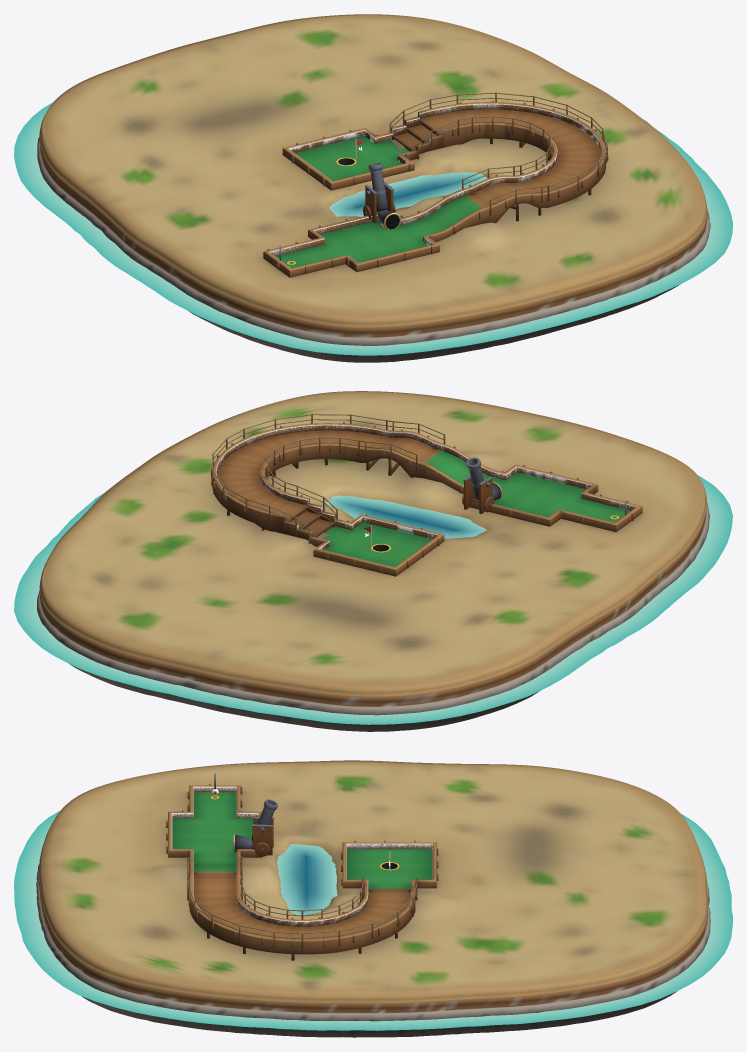
File: course-04.glb
3 views of the same model, one above another, from view 1: azimuth 30°, elevation 25°; view 2: azimuth 150°, elevation 25°; view 3: azimuth 270°, elevation 25° (orthographic). The views are drawn at different scales.
Parts seen in each view (by area): view 1: scenery-matte, water-shore, rail-trim, floor-felt, floor-deck, rail-wood, scenery-water, scenery-metal; view 2: scenery-matte, water-shore, rail-trim, floor-felt, floor-deck, scenery-water, rail-wood, scenery-metal; view 3: scenery-matte, water-shore, rail-trim, floor-felt, floor-deck, scenery-water, rail-wood, scenery-metal.
Boxes of the visible parts, x1,y1,x2,y2 form: scenery-matte: [37, 14, 710, 362]; water-shore: [14, 102, 732, 355]; rail-trim: [263, 100, 606, 277]; floor-felt: [275, 136, 481, 268]; floor-deck: [393, 109, 601, 207]; rail-wood: [269, 103, 602, 268]; scenery-water: [329, 172, 487, 216]; scenery-metal: [364, 163, 394, 224]; scenery-matte: [37, 391, 709, 731]; water-shore: [14, 475, 732, 724]; rail-trim: [211, 422, 642, 576]; floor-felt: [322, 451, 630, 567]; floor-deck: [217, 430, 441, 536]; scenery-water: [326, 495, 486, 538]; rail-wood: [216, 424, 636, 567]; scenery-metal: [462, 457, 501, 512]; scenery-matte: [36, 760, 710, 1037]; water-shore: [14, 811, 732, 1030]; rail-trim: [166, 783, 438, 954]; floor-felt: [172, 792, 432, 888]; floor-deck: [193, 871, 410, 939]; scenery-water: [277, 844, 337, 915]; rail-wood: [171, 786, 432, 939]; scenery-metal: [234, 799, 277, 856].
Size of the model in its own units: 24.53 by 4.62 by 28.83.
